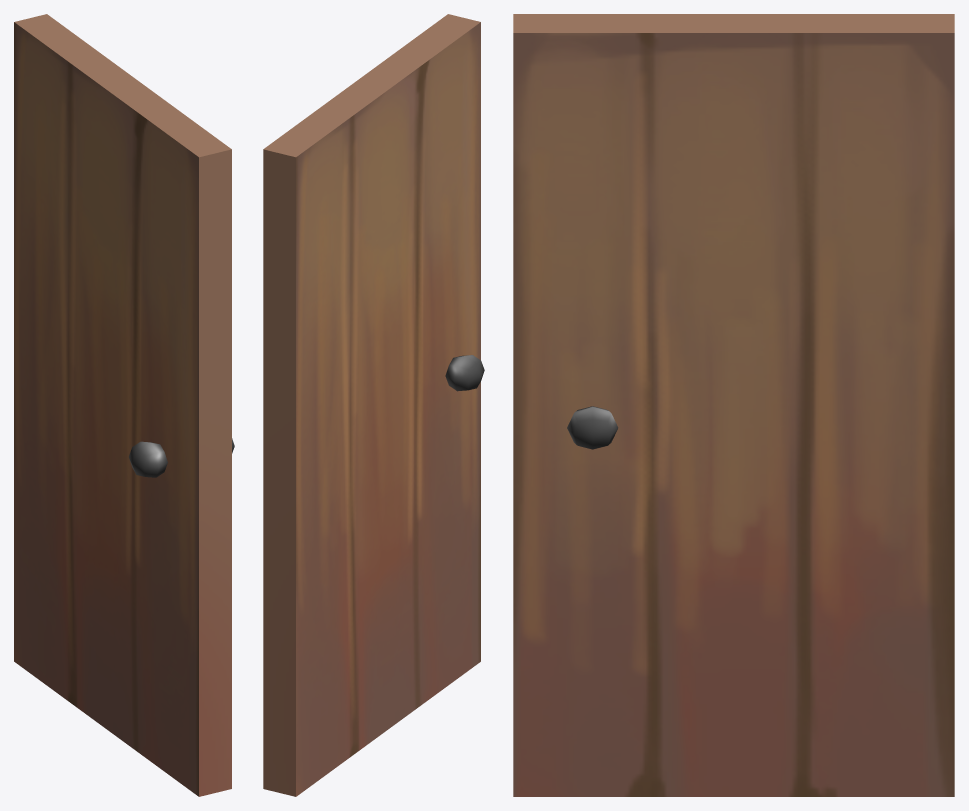
File: Bedroom_Door.fbx
3 renders of one model, left to right at view 1: azimuth 30°, elevation 25°; view 2: azimuth 150°, elevation 25°; view 3: azimuth 270°, elevation 25°, orthographic. The views are drawn at different scales.
Parts seen in each view (by area): view 1: Bedroom_Door; view 2: Bedroom_Door; view 3: Bedroom_Door.
Boxes of the visible parts, <box> form: Bedroom_Door: <box>14,14,234,796</box>; Bedroom_Door: <box>263,14,484,796</box>; Bedroom_Door: <box>513,14,954,796</box>.
Bounding box in the file's own units: 33.73 × 207 × 109.
2 materials, 2 textured.
